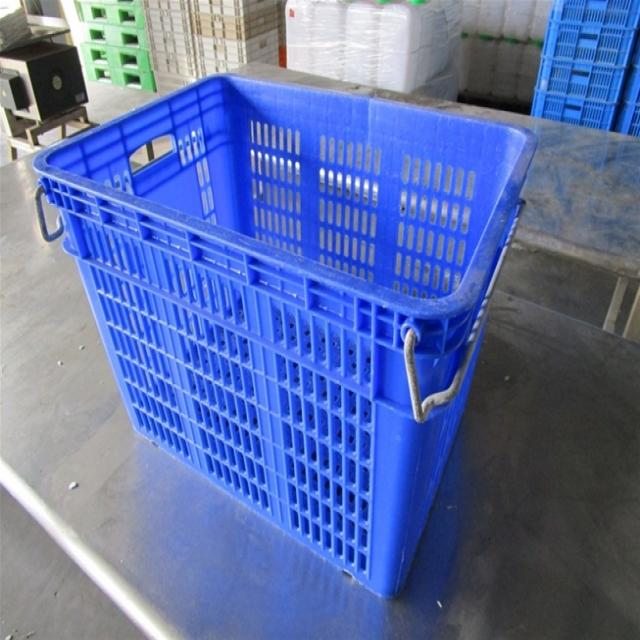basket: (0, 7, 541, 604)
